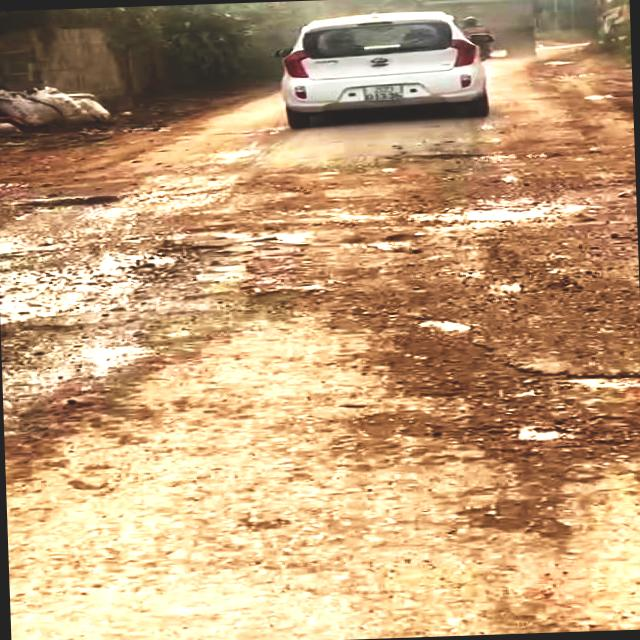pothole: (0, 225, 299, 330), (334, 192, 600, 231)
